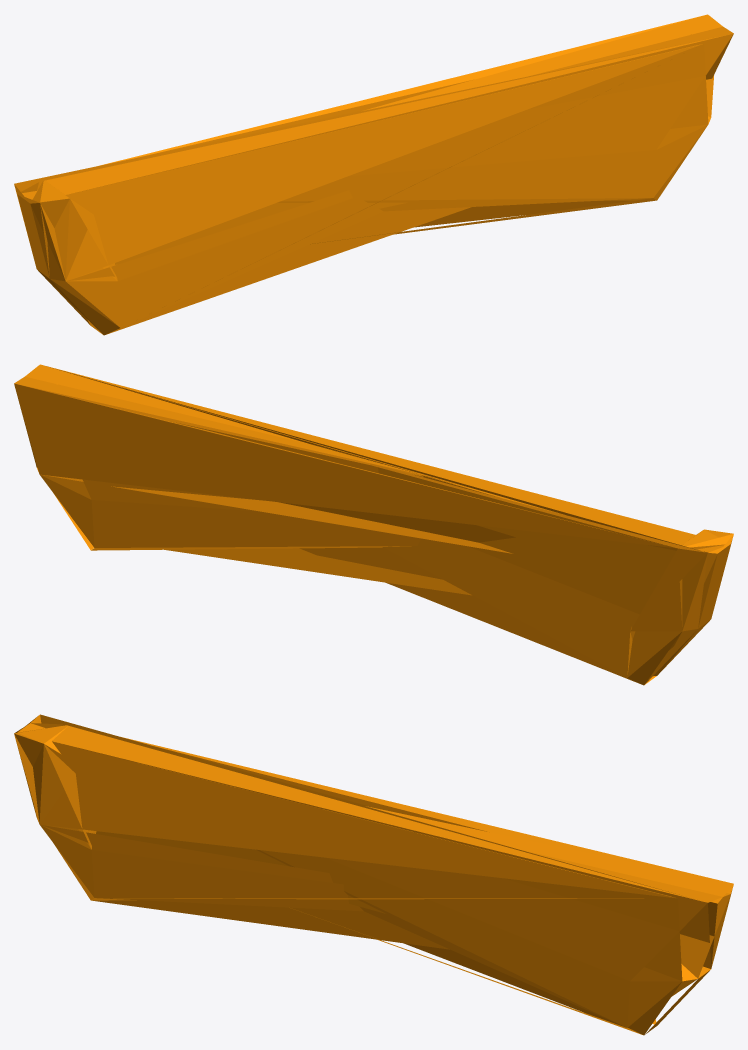
The model's file is S.S._Dolphin_part.027.obj.
3 renders of one model, top to bottom at view 1: azimuth 30°, elevation 25°; view 2: azimuth 150°, elevation 25°; view 3: azimuth 330°, elevation 25°, orthographic.
Visible parts, largest first — view 1: S.S._Dolphin_part.027; view 2: S.S._Dolphin_part.027; view 3: S.S._Dolphin_part.027.
Part boxes in pixels (x1,y1,x2,y2): S.S._Dolphin_part.027: (14, 14, 733, 335); S.S._Dolphin_part.027: (14, 364, 733, 685); S.S._Dolphin_part.027: (14, 714, 733, 1035).
Size of the model in its own units: 5.29 by 1.12 by 0.341.
